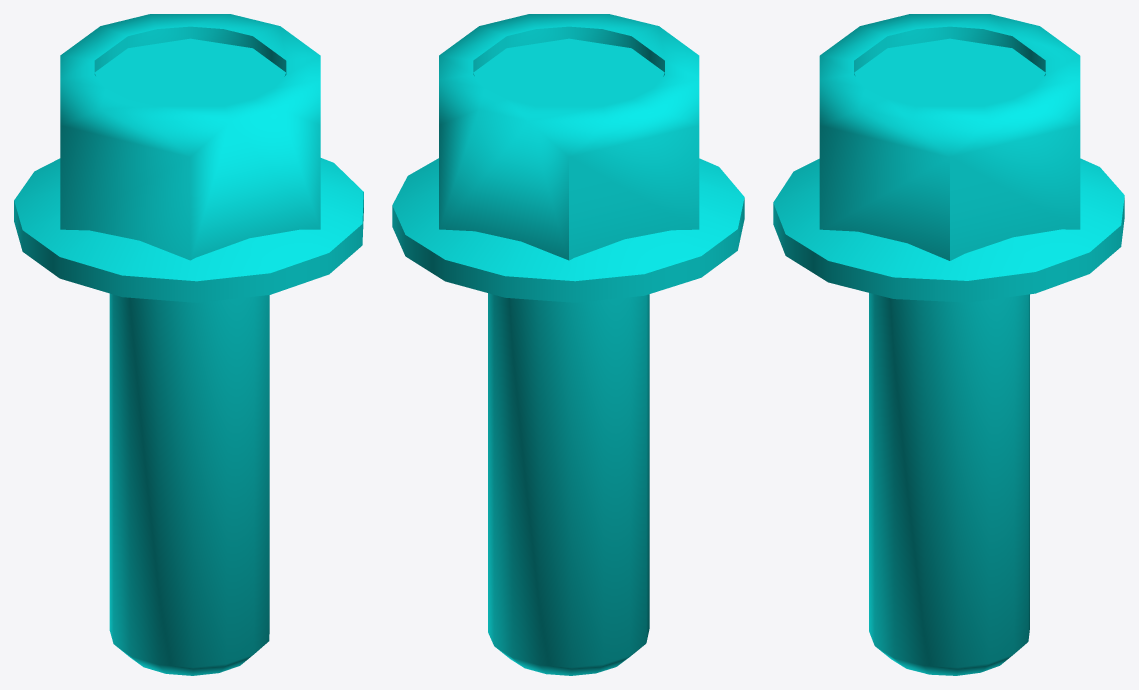
The picture shows the model from 3 angles, left to right: view 1: azimuth 30°, elevation 25°; view 2: azimuth 150°, elevation 25°; view 3: azimuth 270°, elevation 25°; orthographic projection.
Parts seen in each view (by area): view 1: tr035_09; view 2: tr035_09; view 3: tr035_09.
Part boxes in pixels (x1=…): tr035_09: x1=14, y1=14, x2=363, y2=675; tr035_09: x1=392, y1=14, x2=744, y2=675; tr035_09: x1=773, y1=14, x2=1124, y2=675.
Bounding box in the file's own units: 2.92 × 5.37 × 2.94.
